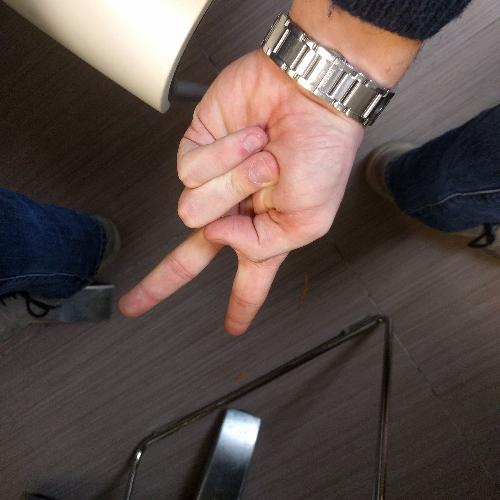scissors: (111, 7, 428, 349)
